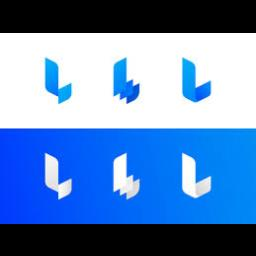l: (178, 52, 216, 106)
